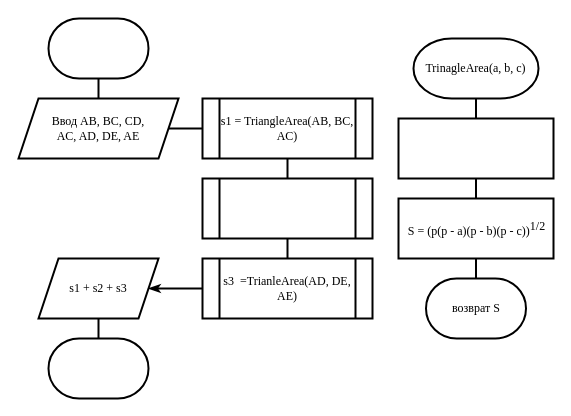
Some shapes in this 571 by 416 pixel diagram are drawn without their labels. The shapes that lost their labels are listed below. From the top down, each one's centre as x and y in pixels, then its label:
the point at 98,48: Начало
the point at 475,148: p = (a + b + c)
the point at 287,208: s2 = TriangleArea(AC, CD, AD)
the point at 98,368: Остановка
